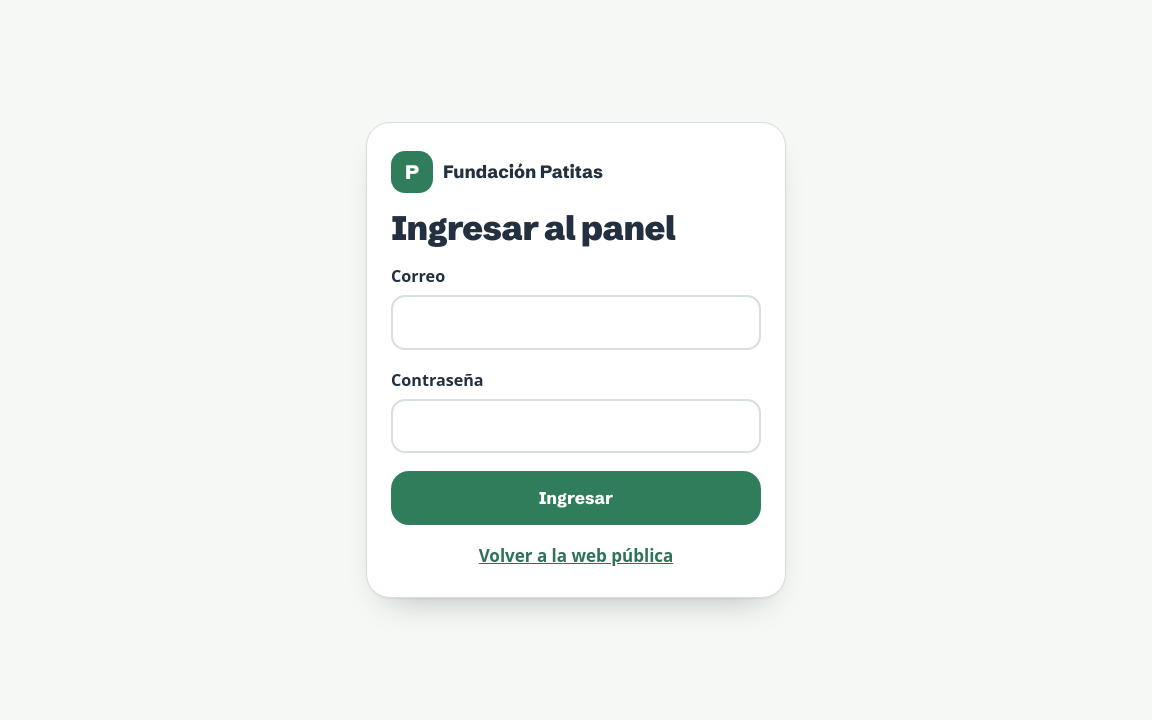
Test: panel access › sends people without a session to the login and back to where they were
Expected: the heading "Ingresar al panel" is shown, [391,207,675,249]
Type "marta@patitas.cl" into the field labelled "Correo" at (576, 322), box [391,295,761,350]
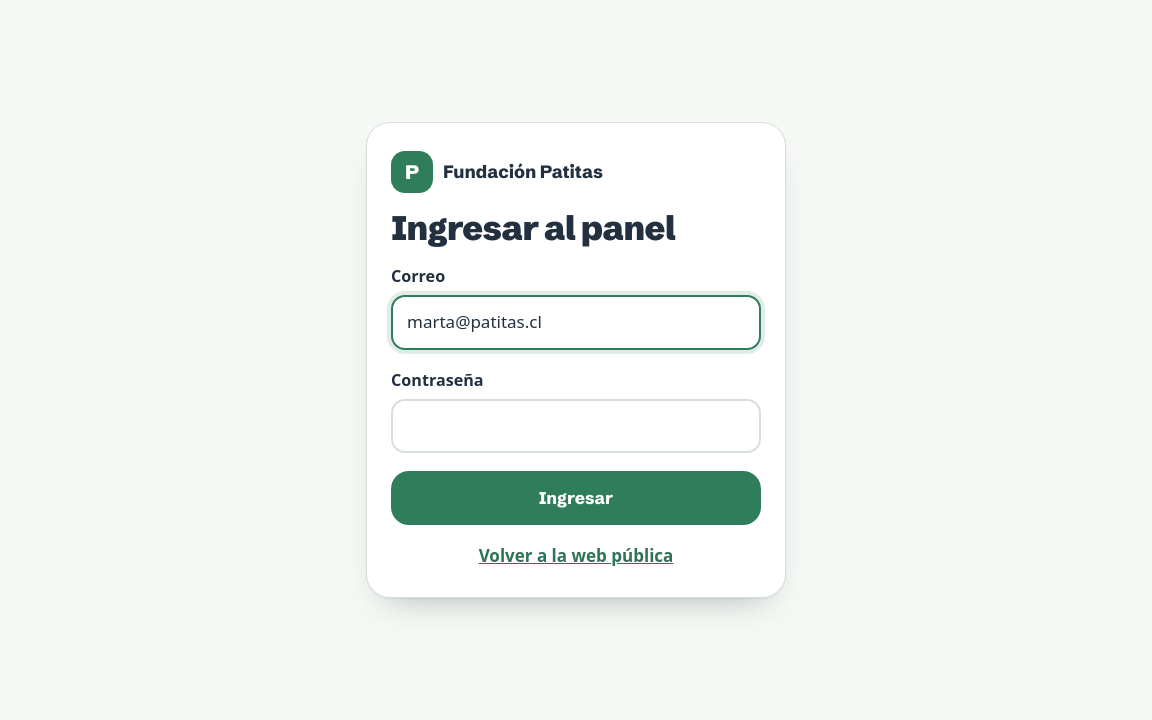
Type "clave" into the password field labelled "Contraseña" at (576, 426), box [391,399,761,453]
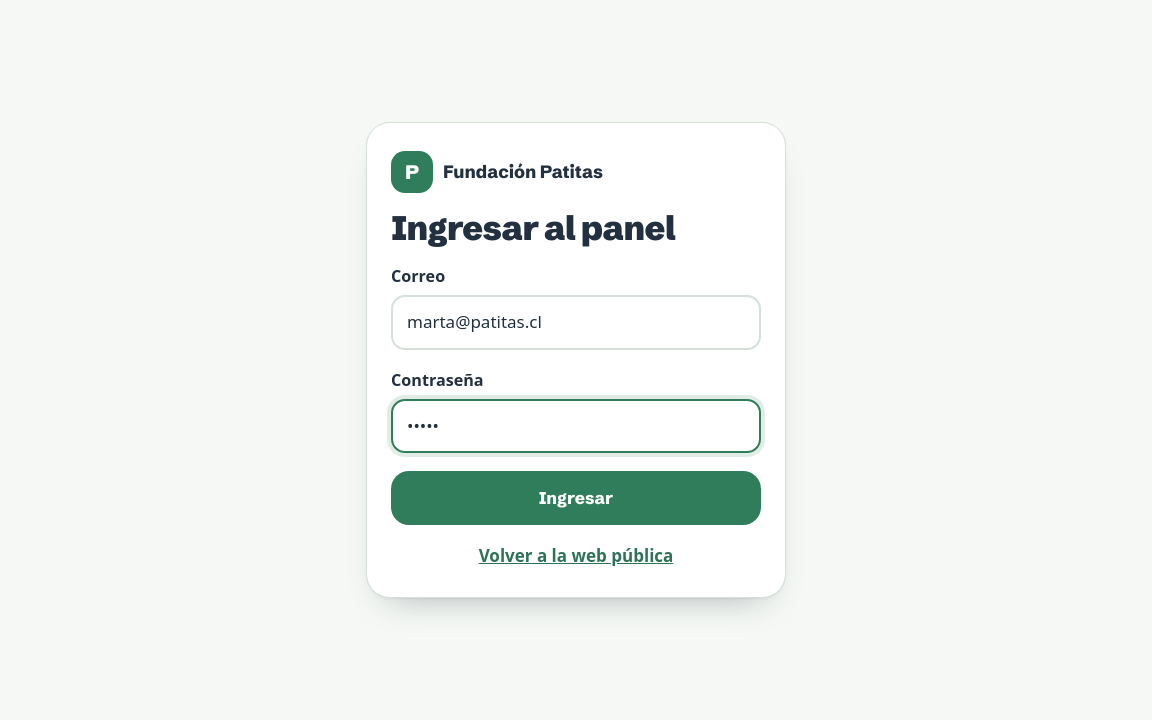
Click the button "Ingresar" at (576, 498), box [391,471,761,525]
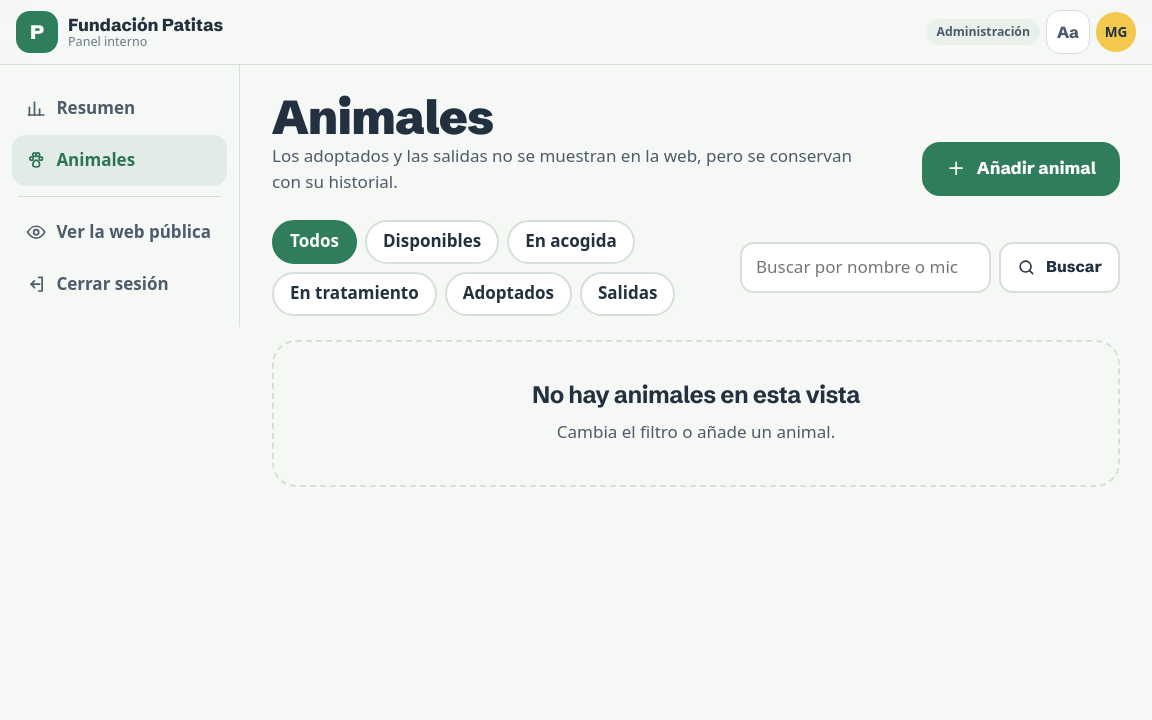
Now the heading "Animales" is shown, box [272,88,493,146]
